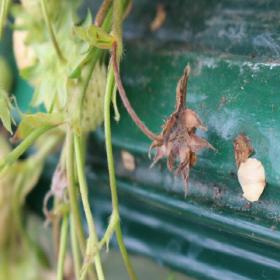Gray Mold: (129, 63, 217, 200)
